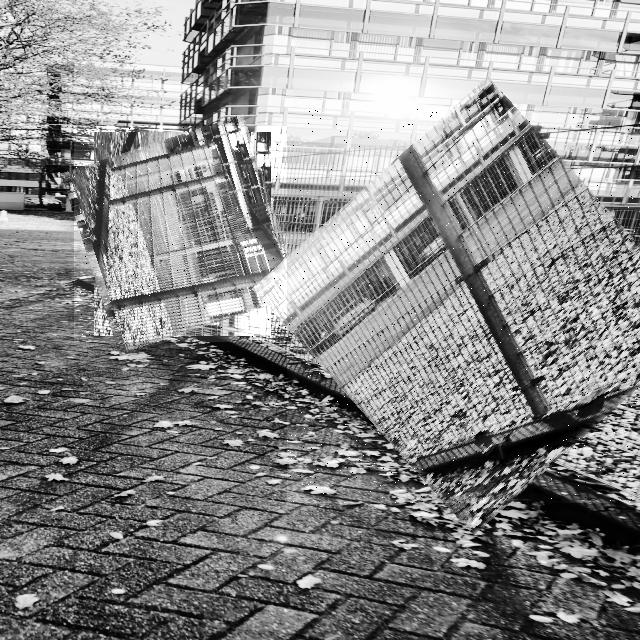fences: (287, 108, 640, 503), (74, 126, 290, 342)
